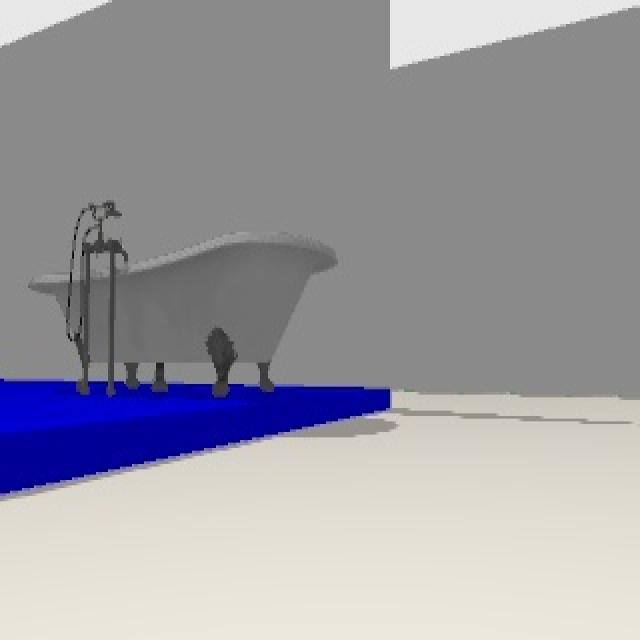bathtub: (30, 198, 338, 394)
